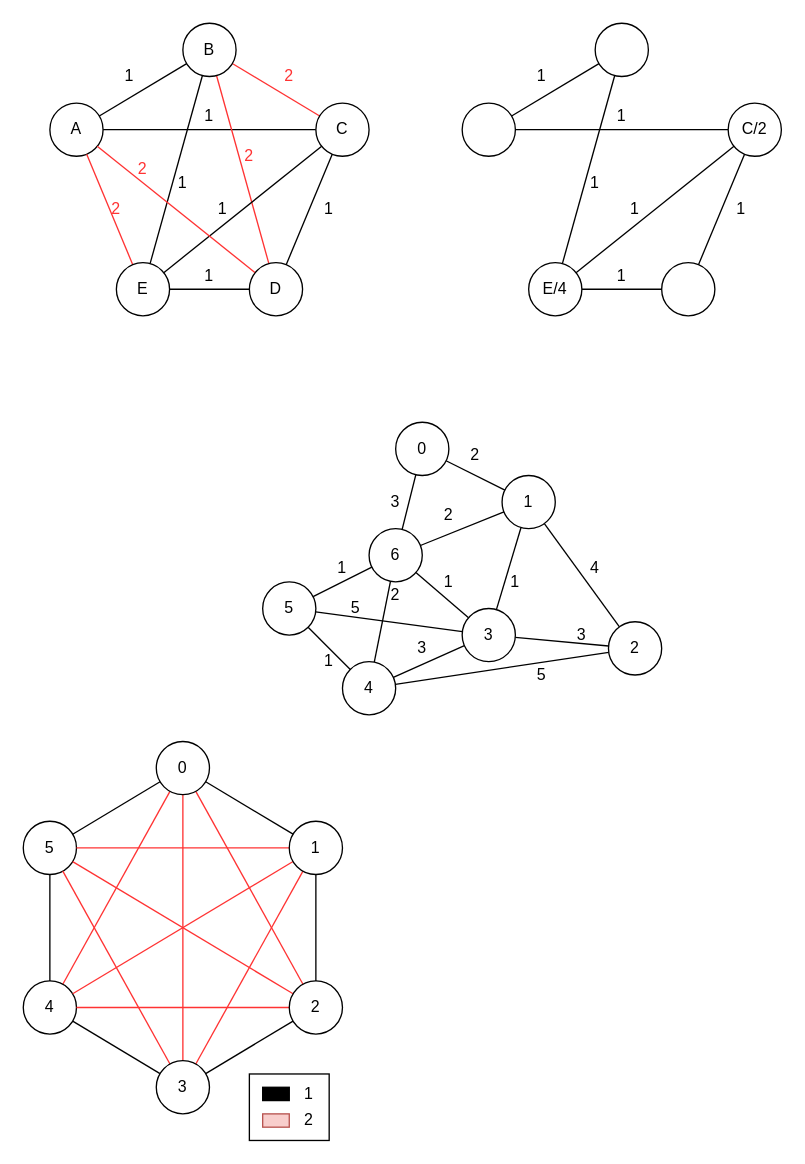
Some shapes in this 805 by 1164 pixel diagram are drawn without their labels. Each missing label, with the centre of its shape:
A/0: pixel 488 129
B/1: pixel 621 49
D/3: pixel 687 288
